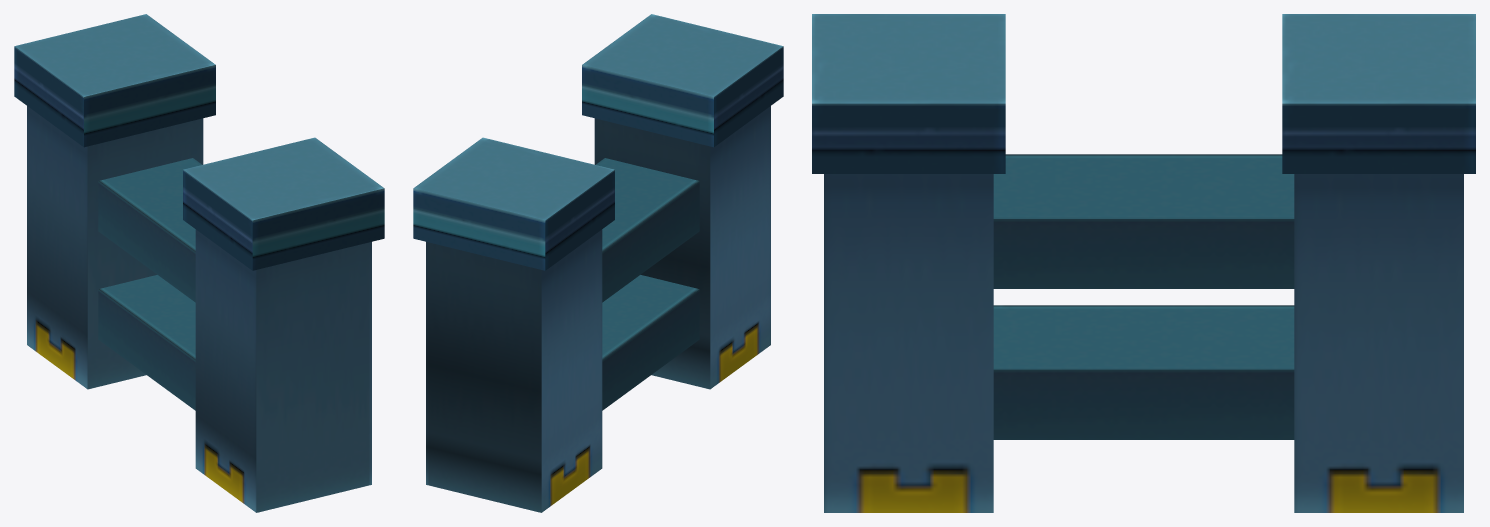
Rendered from LanGan_AHa.fbx.
3 renders of one model, left to right at view 1: azimuth 30°, elevation 25°; view 2: azimuth 150°, elevation 25°; view 3: azimuth 270°, elevation 25°, orthographic. The views are drawn at different scales.
Parts seen in each view (by area): view 1: LanGan_AHa; view 2: LanGan_AHa; view 3: LanGan_AHa.
Part boxes in pixels (x1,y1,x2,y2): LanGan_AHa: [14, 14, 384, 512]; LanGan_AHa: [413, 14, 783, 512]; LanGan_AHa: [812, 14, 1475, 512].
Size of the model in its own units: 0.1476 by 0.3182 by 0.4614.
Materials: 1 (1 with a texture image).
